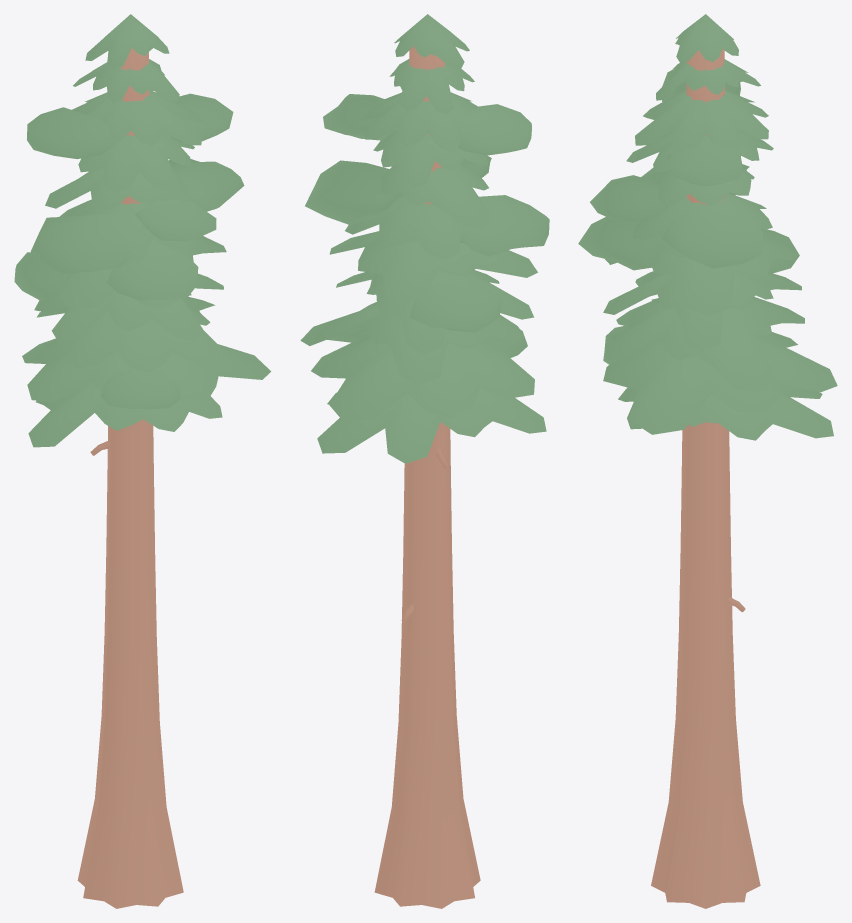
The model's file is Blender_Redwood_2.glb.
3 renders of one model, left to right at view 1: azimuth 30°, elevation 25°; view 2: azimuth 150°, elevation 25°; view 3: azimuth 270°, elevation 25°, orthographic.
Parts seen in each view (by area): view 1: Blender_Redwood_2; view 2: Blender_Redwood_2; view 3: Blender_Redwood_2.
Boxes of the visible parts, x1,y1,x2,y2 form: Blender_Redwood_2: (14,14,271,908); Blender_Redwood_2: (300,14,549,908); Blender_Redwood_2: (578,14,837,908).
Size of the model in its own units: 23.96 by 89.93 by 24.28.
